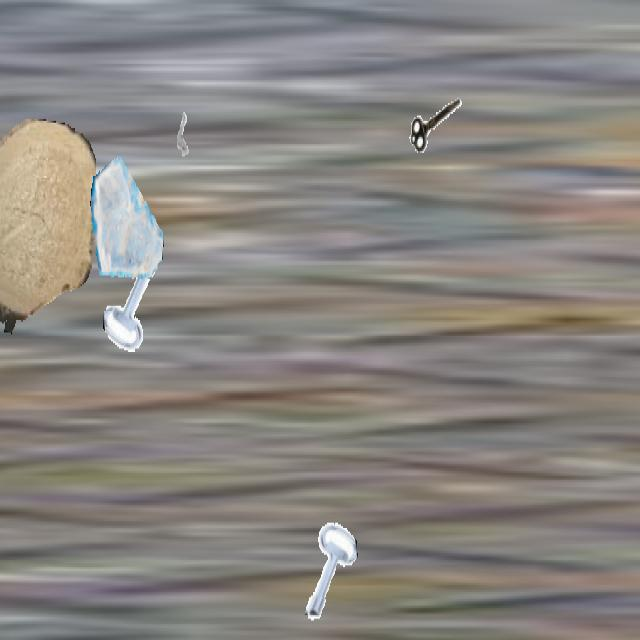glass: (90, 151, 164, 283)
metal: (103, 247, 165, 357), (298, 516, 358, 622), (407, 74, 465, 178), (164, 92, 202, 160)
wood: (0, 119, 95, 336)
